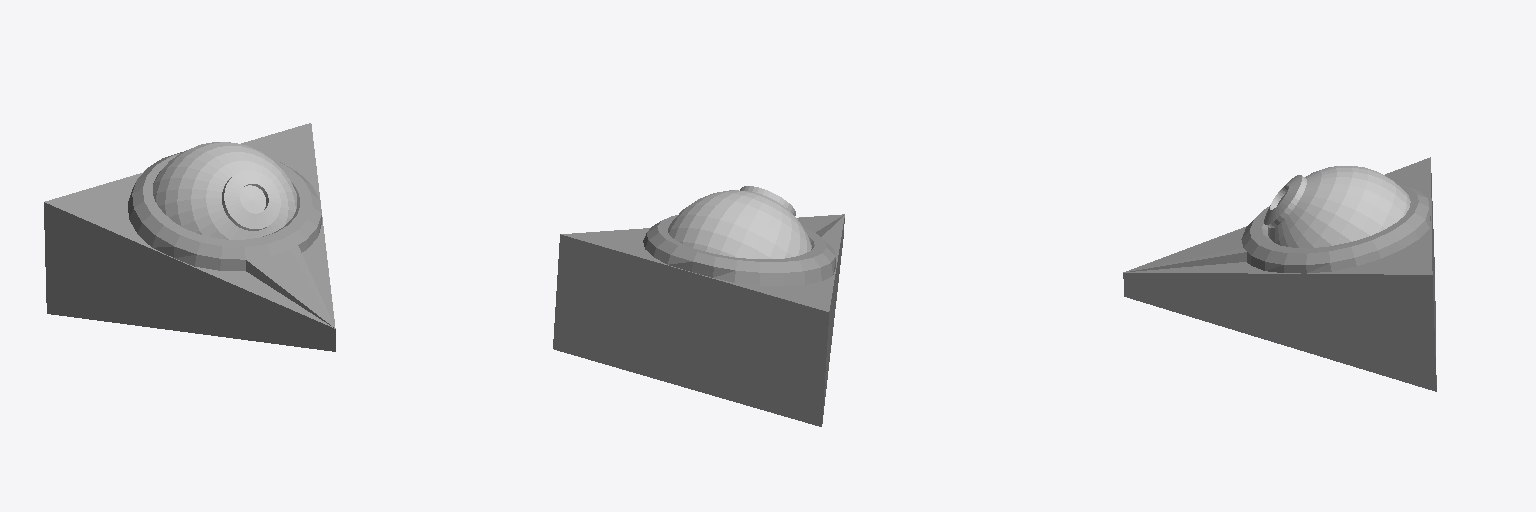
File: eye_enemy1.obj
3 renders of one model, left to right at view 1: azimuth 30°, elevation 25°; view 2: azimuth 150°, elevation 25°; view 3: azimuth 270°, elevation 25°, orthographic.
Visible parts, largest first — view 1: body_Torus, eye_Sphere; view 2: body_Torus, eye_Sphere; view 3: body_Torus, eye_Sphere.
Boxes of the visible parts, x1,y1,x2,y2 form: body_Torus: [44, 123, 335, 351]; eye_Sphere: [153, 142, 296, 239]; body_Torus: [553, 214, 844, 426]; eye_Sphere: [668, 186, 811, 258]; body_Torus: [1123, 157, 1436, 391]; eye_Sphere: [1264, 166, 1410, 247].
Bounding box in the file's own units: 2.04 × 1.17 × 2.02.